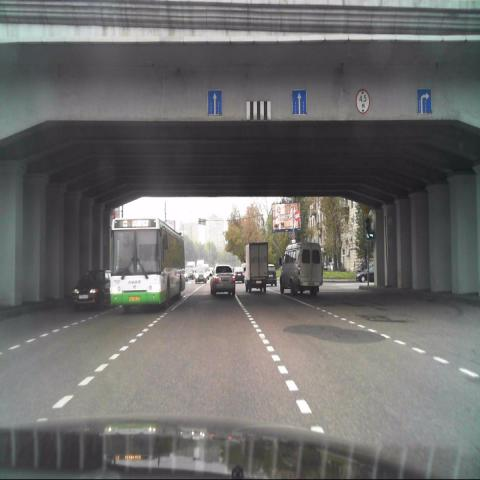5_15_2: (208, 90, 222, 117)
